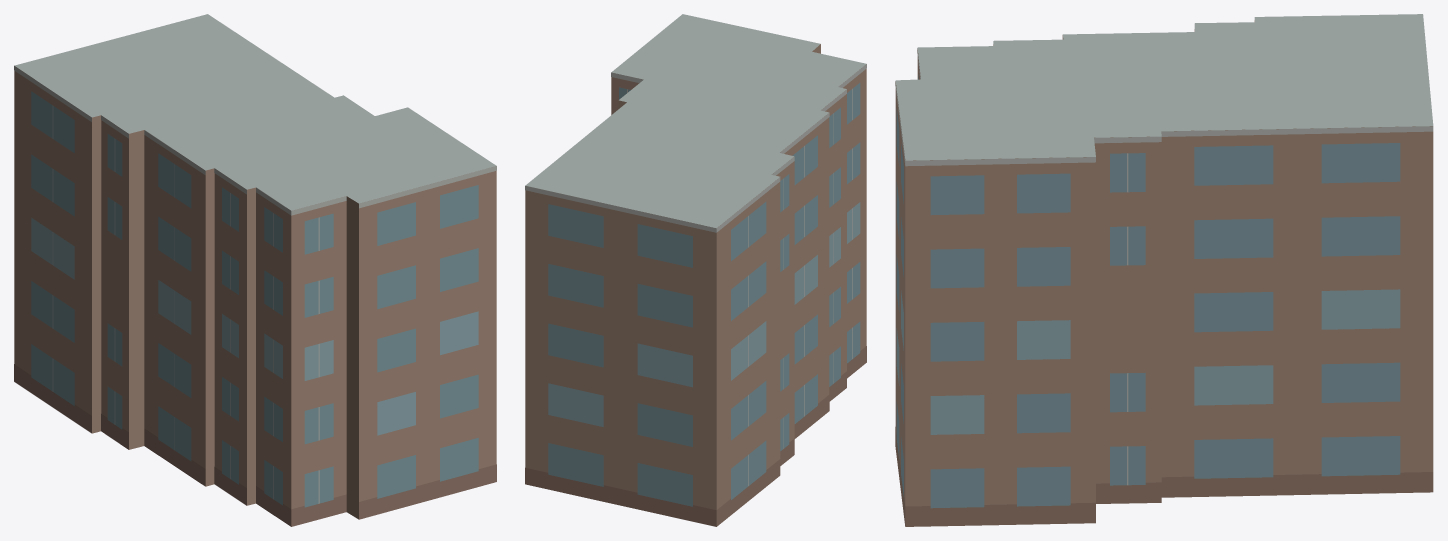
File: survey-upis-32918582.glb
3 views of the same model, side by side, from view 1: azimuth 30°, elevation 25°; view 2: azimuth 150°, elevation 25°; view 3: azimuth 270°, elevation 25° (orthographic). The views are drawn at different scales.
Parts seen in each view (by area): view 1: survey-upis-32918582.tmp; view 2: survey-upis-32918582.tmp; view 3: survey-upis-32918582.tmp.
Part boxes in pixels (x1,y1,x2,y2): survey-upis-32918582.tmp: (14, 14, 496, 526); survey-upis-32918582.tmp: (525, 14, 866, 526); survey-upis-32918582.tmp: (895, 14, 1433, 526).
Size of the model in its own units: 13.74 by 16 by 21.3.
